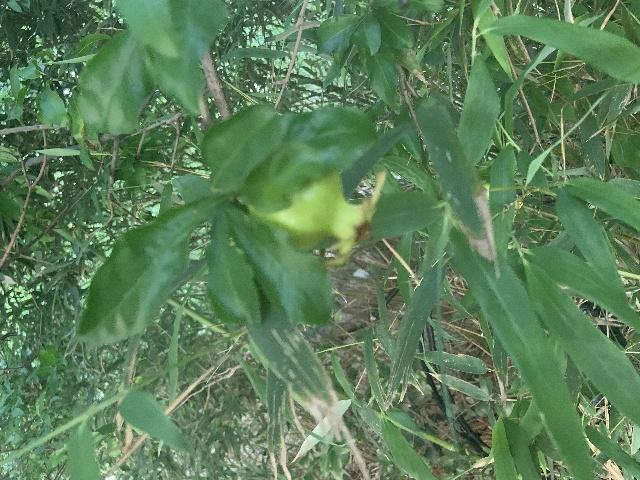mid-growth: (248, 169, 386, 265)
